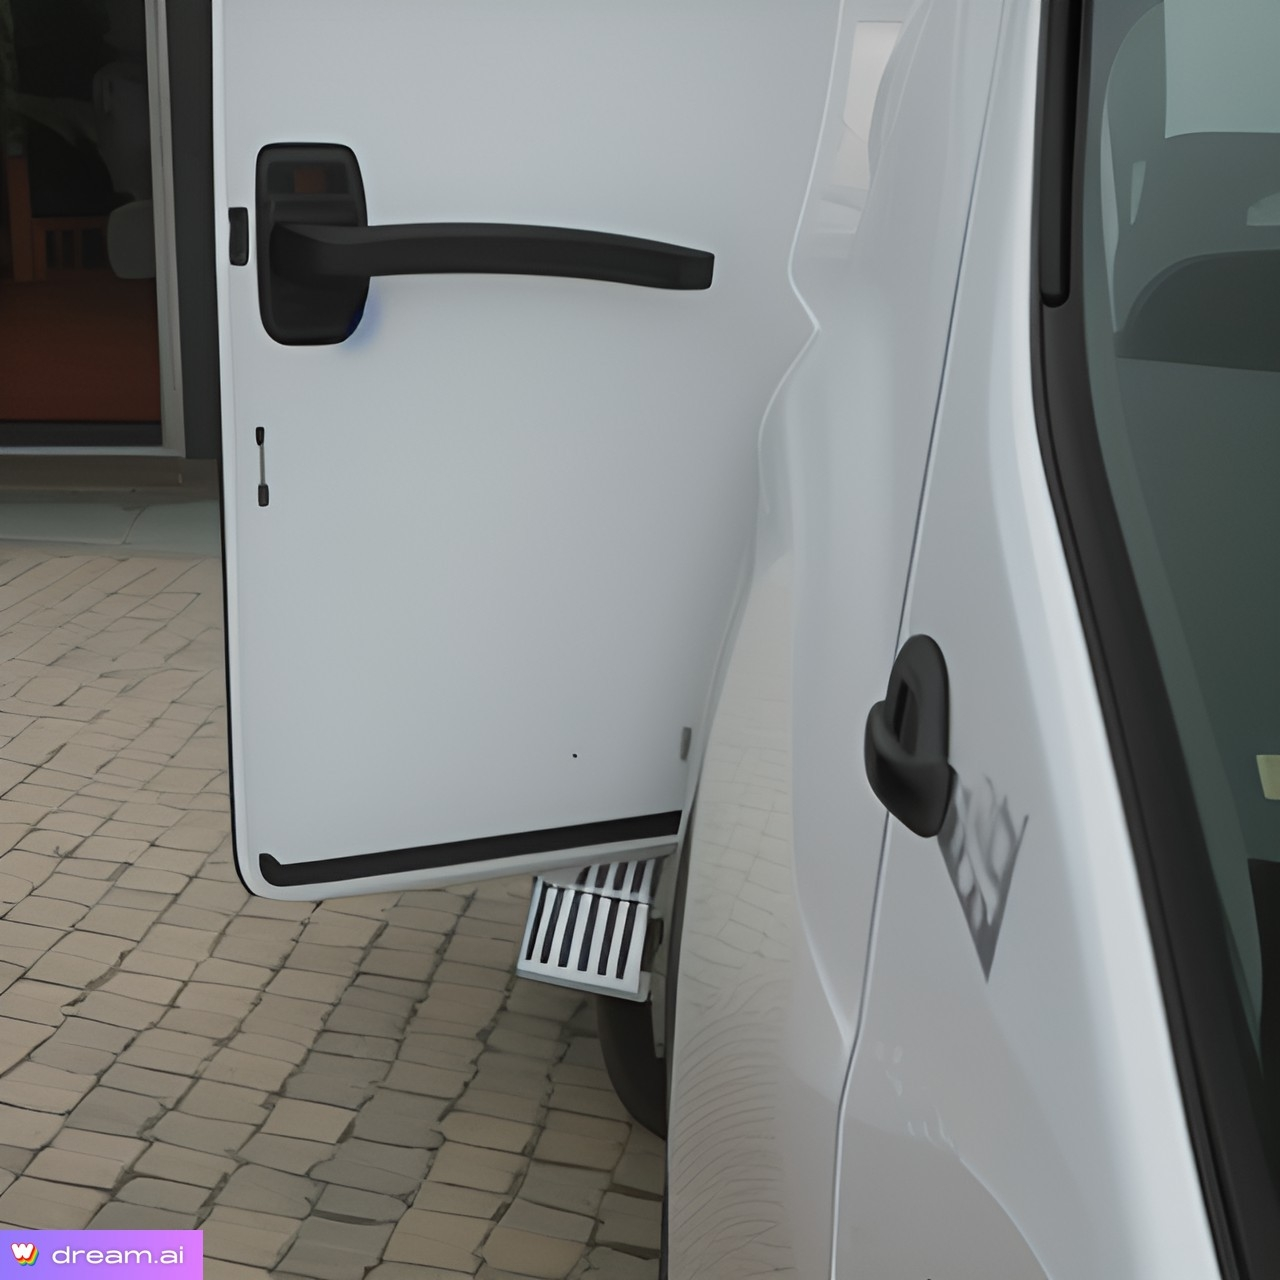door_front: (196, 1, 796, 941)
step_front: (491, 840, 693, 1032)
